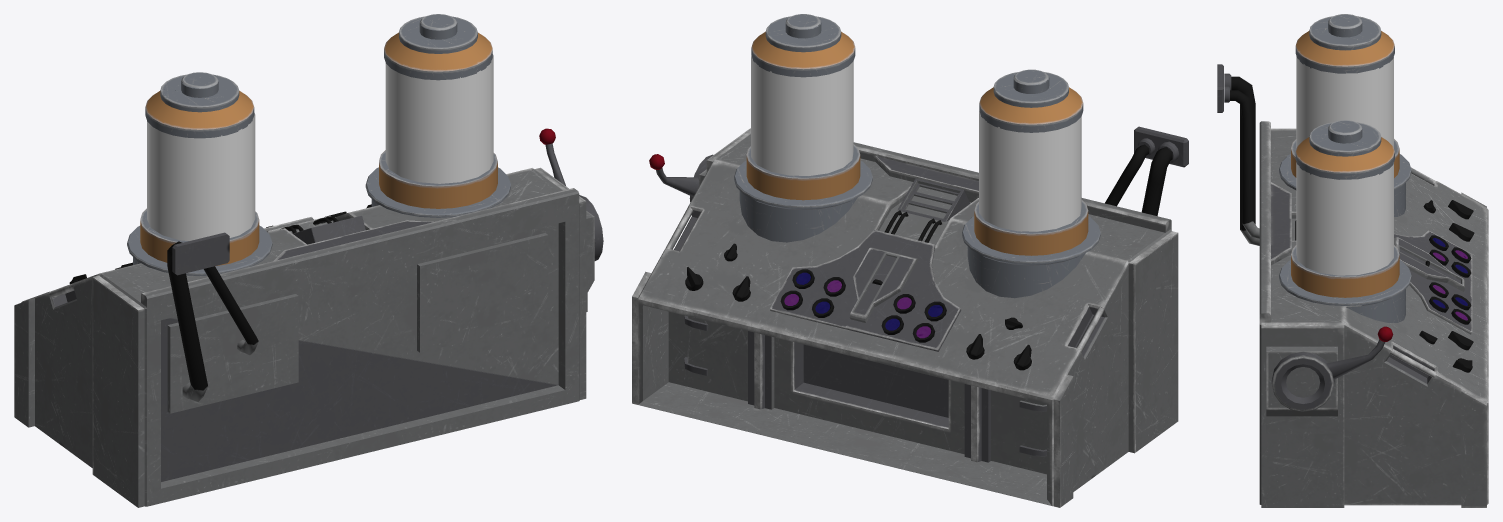
The model's file is Consola_Arreglada (1).fbx.
3 renders of one model, left to right at view 1: azimuth 30°, elevation 25°; view 2: azimuth 150°, elevation 25°; view 3: azimuth 270°, elevation 25°, orthographic. The views are drawn at different scales.
Parts seen in each view (by area): view 1: 3521.003, 3622.001, 3622.004; view 2: 3521.003, 3622.001, 3622.004; view 3: 3521.003, 3622.001, 3622.004.
Part boxes in pixels (bbox=[...]): 3521.003: bbox=[14, 128, 603, 507]; 3622.001: bbox=[365, 14, 510, 217]; 3622.004: bbox=[127, 72, 272, 275]; 3521.003: bbox=[632, 126, 1188, 507]; 3622.001: bbox=[734, 14, 872, 242]; 3622.004: bbox=[962, 69, 1100, 298]; 3521.003: bbox=[1217, 64, 1488, 507]; 3622.001: bbox=[1279, 120, 1411, 322]; 3622.004: bbox=[1279, 14, 1411, 216].
Size of the model in its own units: 216 by 157 by 115.
Materials: 3 (2 with a texture image).
